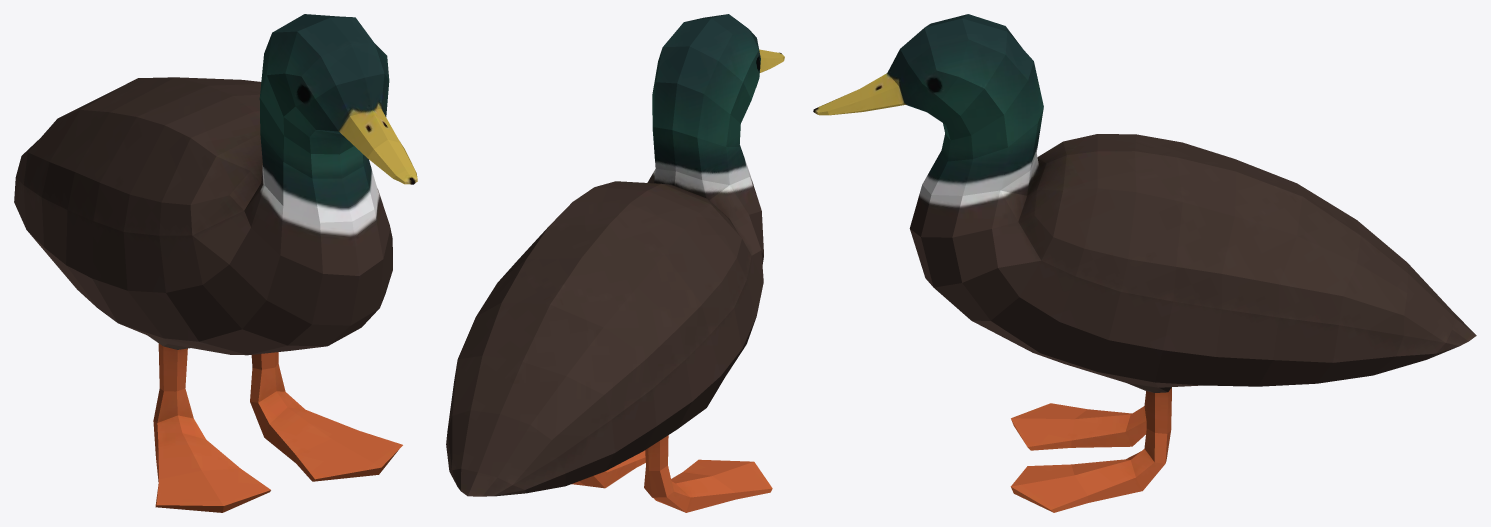
File: duck.glb
The picture shows the model from 3 angles, left to right: view 1: azimuth 30°, elevation 25°; view 2: azimuth 150°, elevation 25°; view 3: azimuth 270°, elevation 25°; orthographic projection. The views are drawn at different scales.
Visible parts, largest first — view 1: MallardDuck_Mesh; view 2: MallardDuck_Mesh; view 3: MallardDuck_Mesh.
Boxes of the visible parts, box(x1,y1,x2,y2) form: MallardDuck_Mesh: box(14, 14, 417, 512); MallardDuck_Mesh: box(446, 14, 784, 512); MallardDuck_Mesh: box(813, 14, 1476, 512).
Size of the model in its own units: 0.9816 by 1.87 by 2.55.
Materials: 1 (1 with a texture image).
